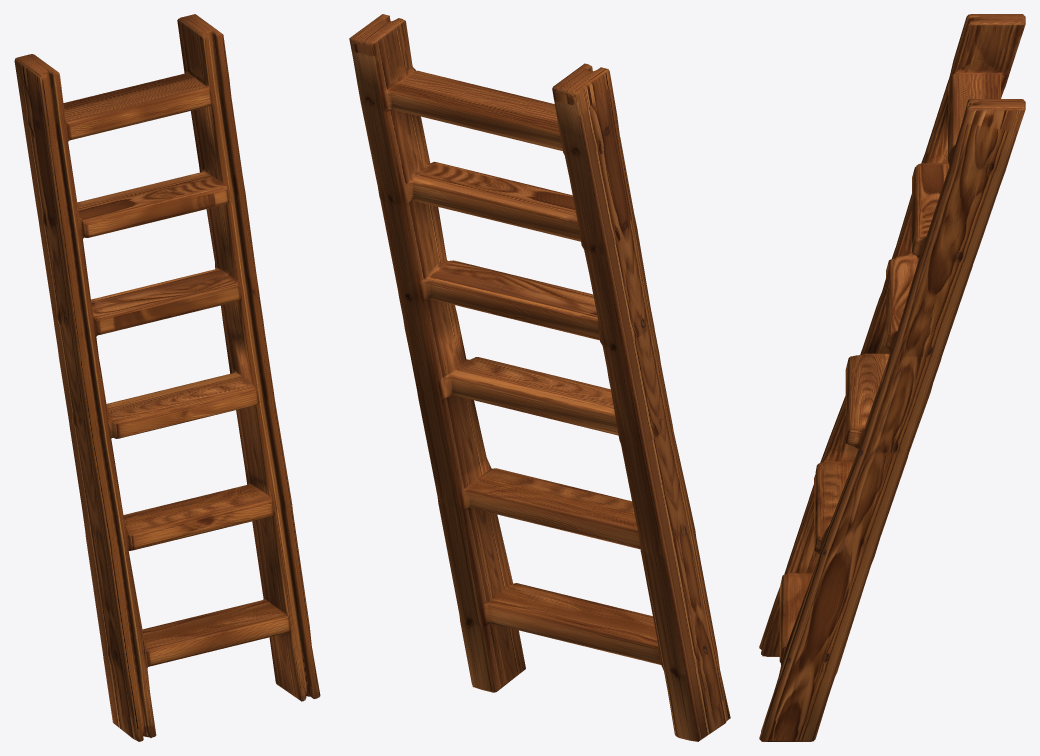
Rendered from Meshy_AI_wood_ladder_not_a_fu_0416150003_texture.fbx.
3 views of the same model, side by side, from view 1: azimuth 30°, elevation 25°; view 2: azimuth 150°, elevation 25°; view 3: azimuth 270°, elevation 25° (orthographic). The views are drawn at different scales.
Parts seen in each view (by area): view 1: Mesh_0; view 2: Mesh_0; view 3: Mesh_0.
Boxes of the visible parts, <box> form: Mesh_0: <box>14,14,320,741</box>; Mesh_0: <box>349,14,730,741</box>; Mesh_0: <box>759,14,1025,741</box>.
Size of the model in its own units: 62.23 by 191 by 72.41.
Materials: 1 (1 with a texture image).
